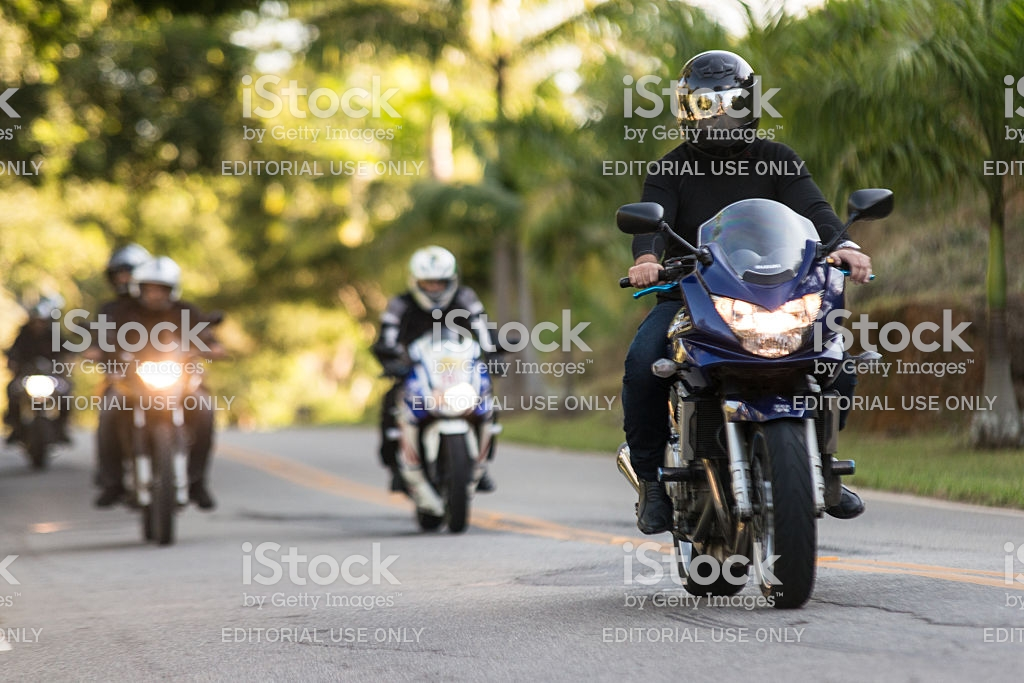helmet: (679, 50, 756, 134), (408, 246, 466, 304), (131, 253, 185, 301)
